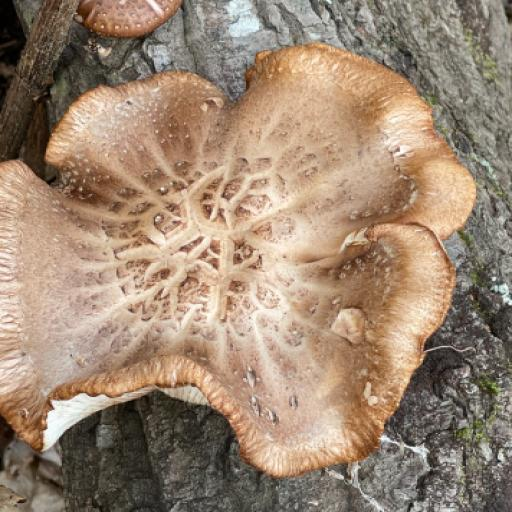Shiitake Mushroom: (0, 24, 485, 483)
